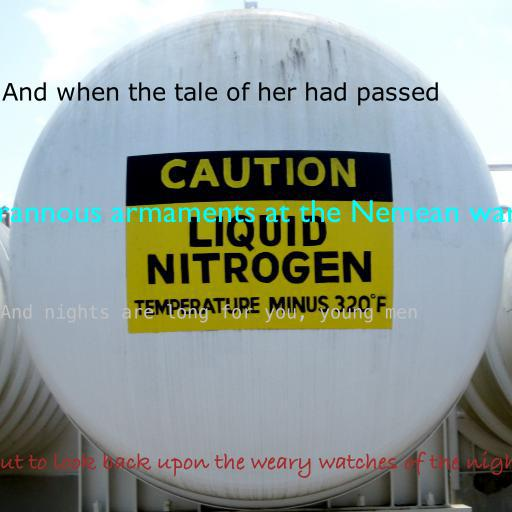Bradley Hand: (0, 451, 512, 478)
Gill Sans: (0, 199, 512, 230)
Menlo: (0, 304, 418, 323)
Verdana: (2, 82, 440, 106)
